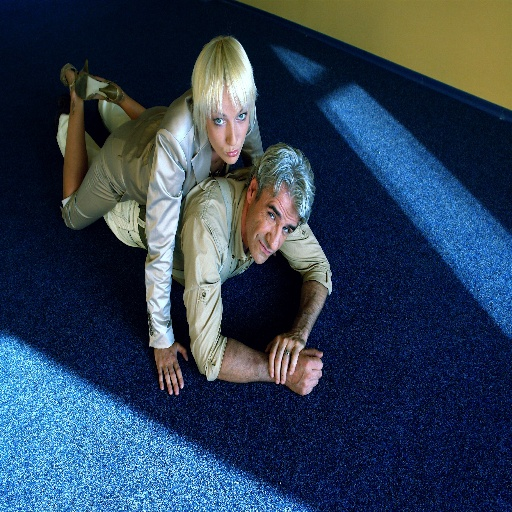hand: (154, 338, 189, 397), (285, 346, 324, 398)
